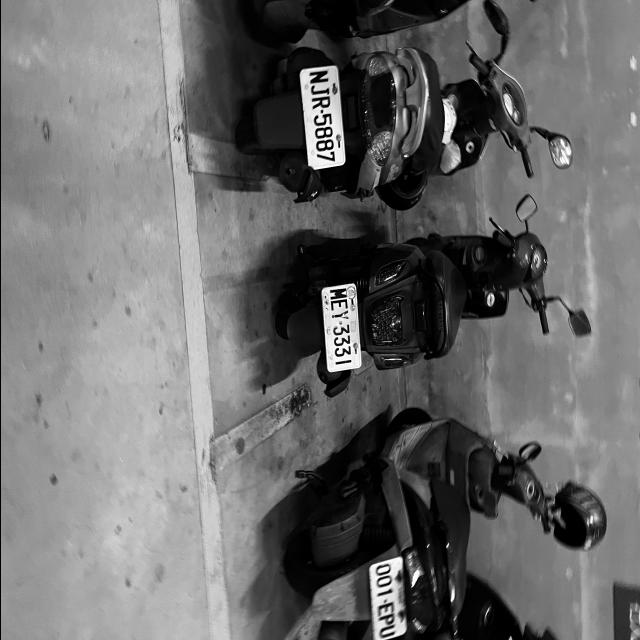-: (382, 598, 387, 604), (320, 109, 324, 114), (338, 321, 342, 325)
0: (373, 562, 391, 578), (375, 575, 392, 589)
1: (376, 587, 393, 598), (334, 359, 351, 366)
3: (331, 324, 350, 338), (332, 334, 350, 347), (333, 347, 351, 357)
5: (313, 113, 332, 127)
7: (315, 152, 335, 162)
8: (314, 140, 333, 152), (314, 127, 332, 139)
E: (377, 601, 394, 617), (329, 298, 348, 312)
J: (310, 85, 330, 95)
M: (329, 287, 347, 301)
N: (308, 70, 328, 84)
P: (376, 613, 395, 626)
R: (310, 96, 330, 110)
U: (378, 624, 395, 639)
Y: (330, 310, 348, 321)
plate: (306, 68, 338, 165), (369, 558, 403, 639), (322, 286, 354, 370)
